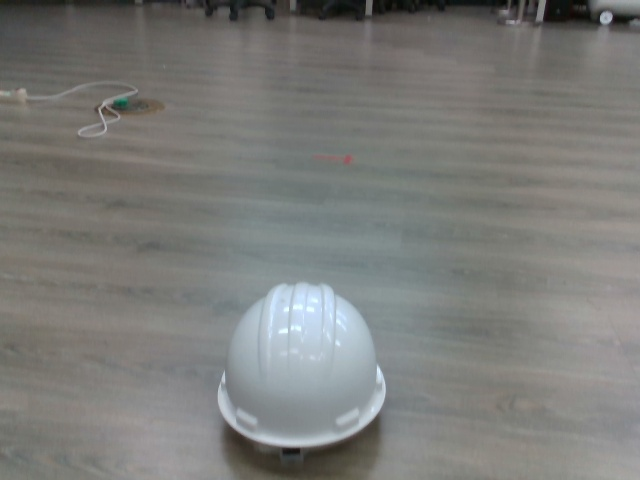helmet: (216, 278, 391, 464)
